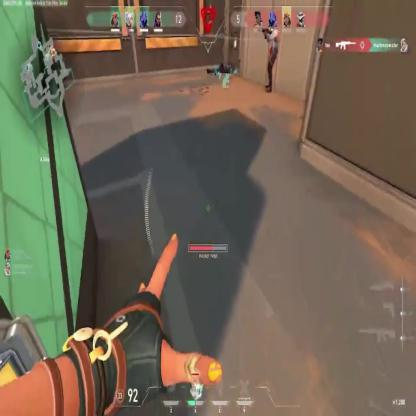enemy: (264, 14, 279, 93)
enemy_head: (267, 10, 277, 28)
